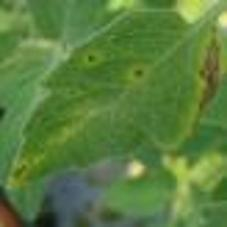Bacterial Spot: (6, 8, 222, 192)
